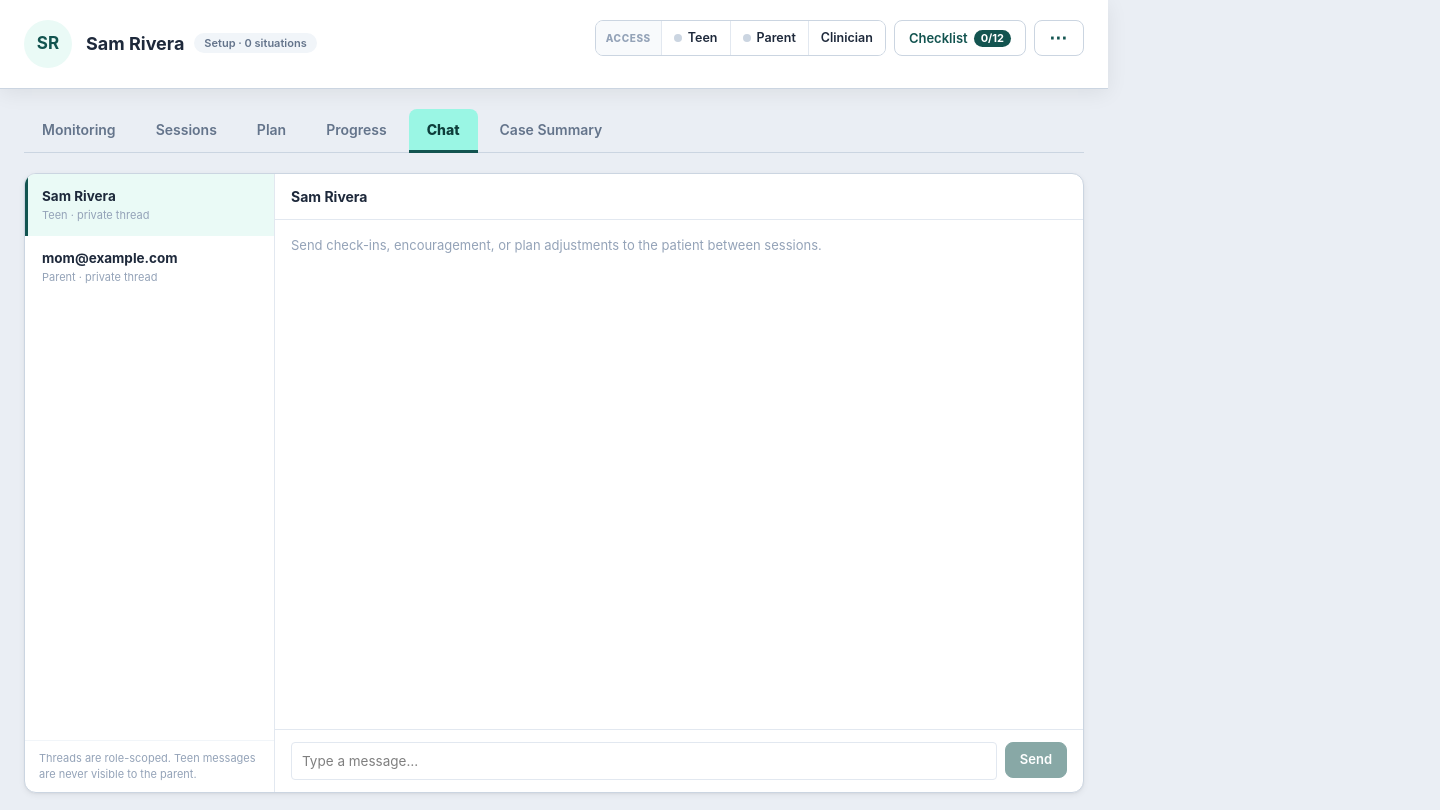
Test: Chat header label › keeps the "This parent only" label on a parent thread
Click the button "mom@example.com Parent · private thread" at (150, 267), box [25,236,274,298]
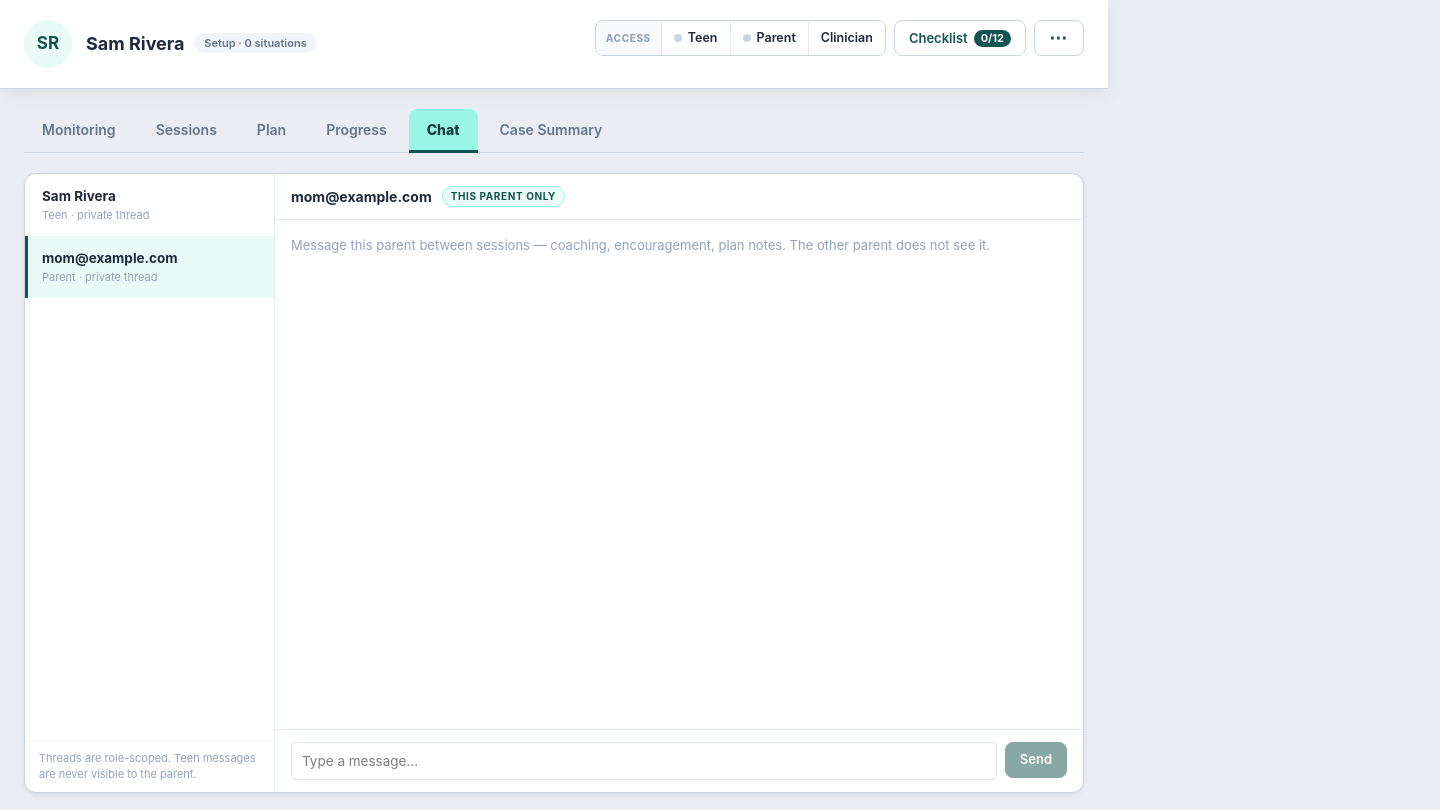
Now the text "THIS PARENT ONLY" is shown, box [442,186,565,207]
